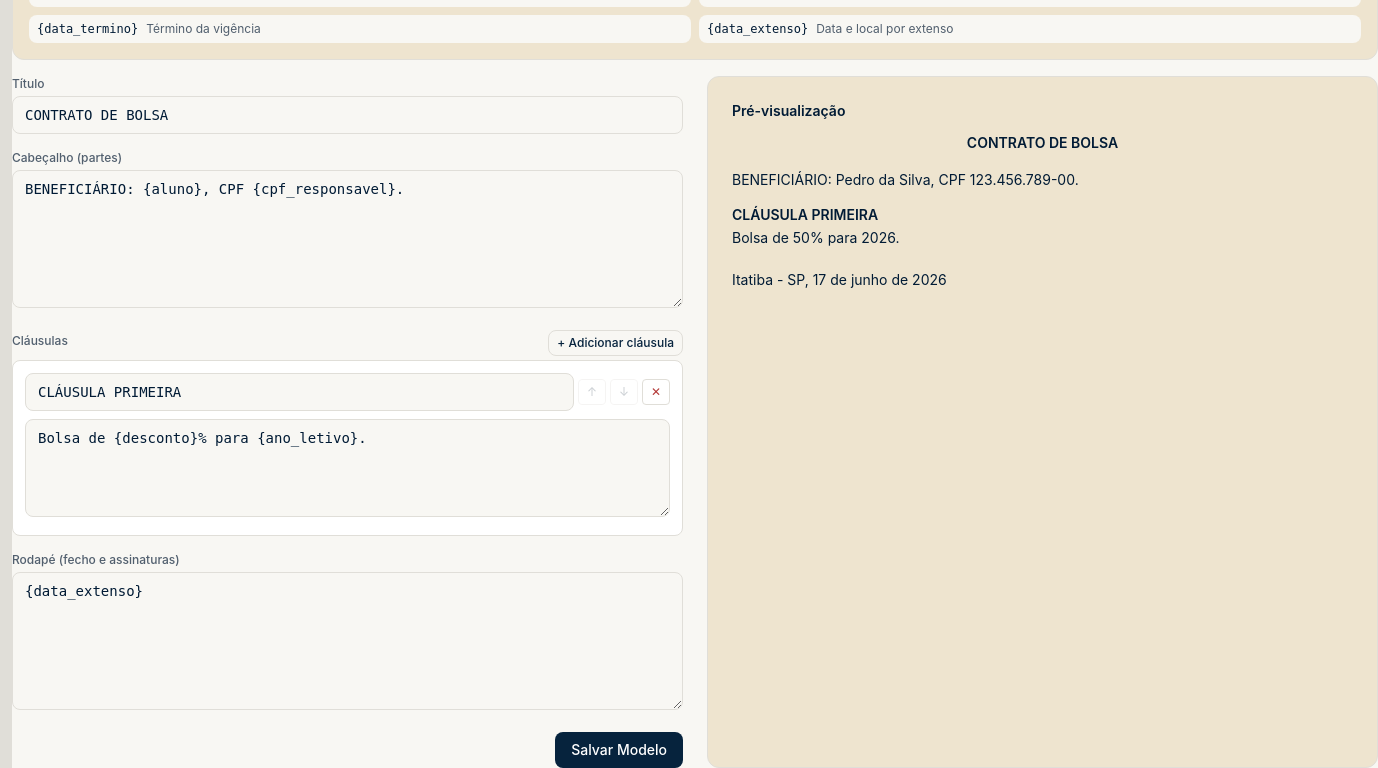
it: ContractTemplateEditor › shows an error message when saving fails
(page scrolled)
Click the button with test id "save-contract-button" at (619, 750), box 555,732 -> 683,767
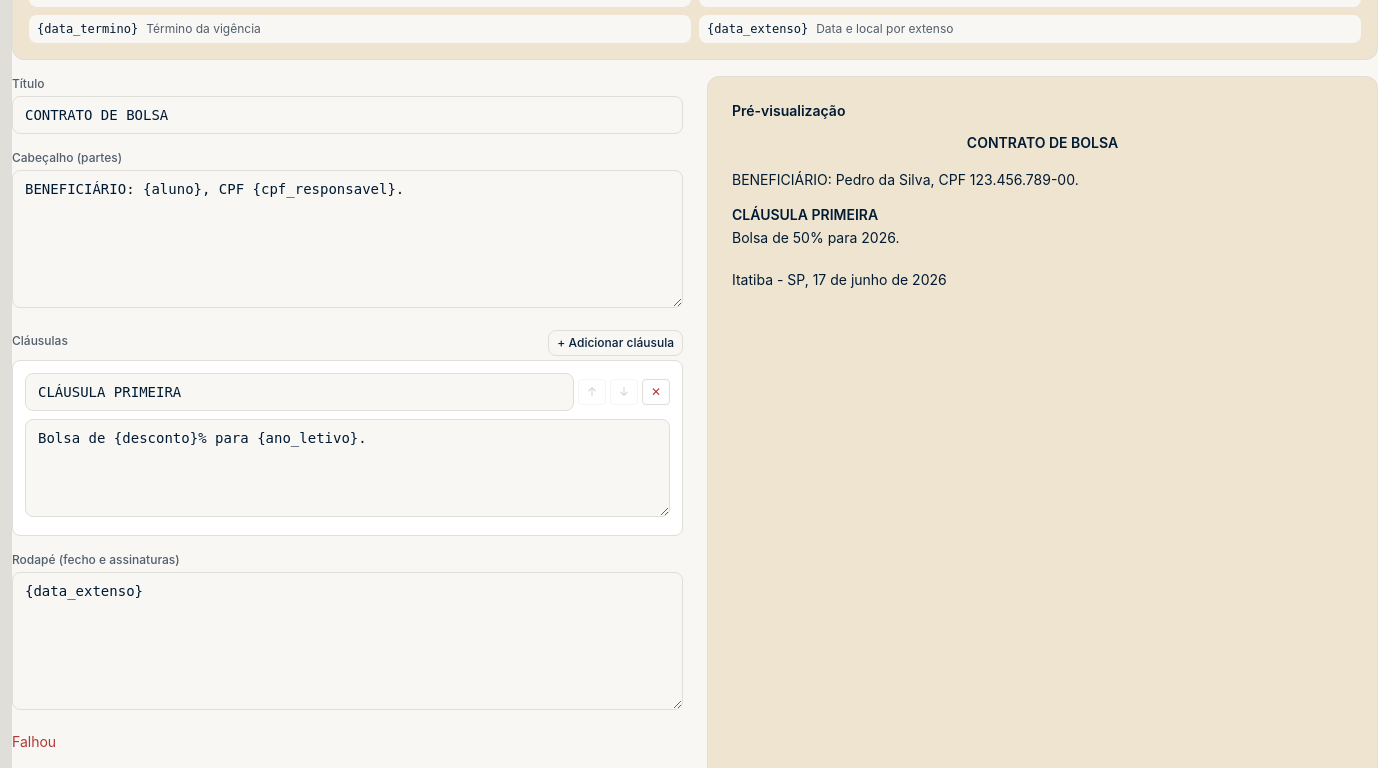
Expected: the text with test id "contract-save-message" reads "Falhou", 12,733 -> 56,750
